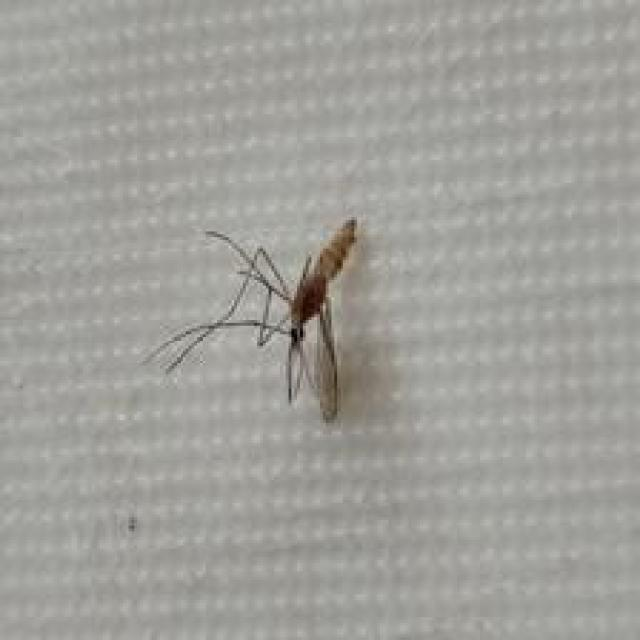Culex: (138, 214, 362, 426)
